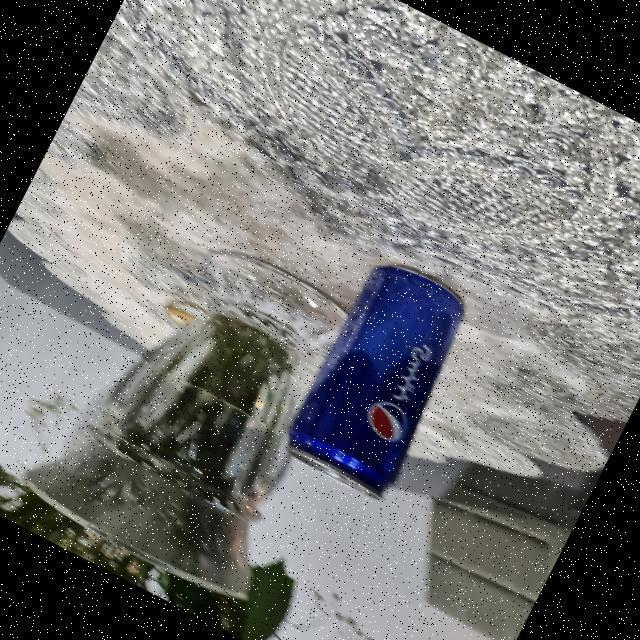can: (269, 241, 490, 511)
